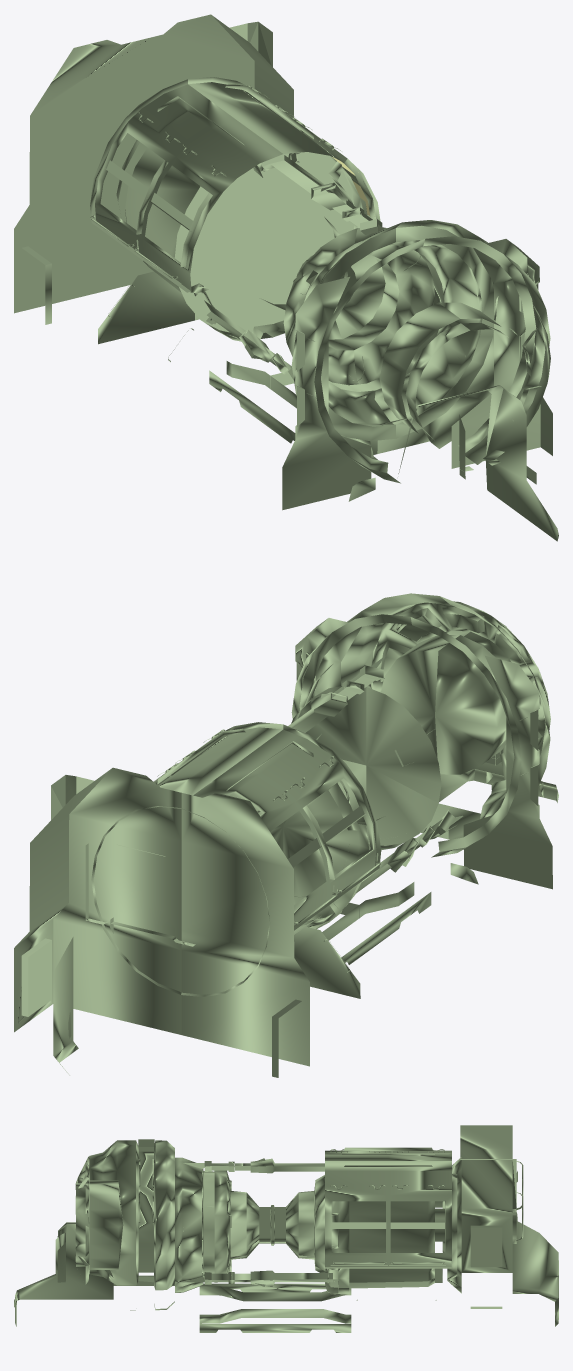
The model's file is uee_lawless_prop_generator_large.glb.
The picture shows the model from 3 angles, top to bottom: view 1: azimuth 30°, elevation 25°; view 2: azimuth 150°, elevation 25°; view 3: azimuth 270°, elevation 25°; orthographic projection. The views are drawn at different scales.
Size of the model in its own units: 2.87 by 2.66 by 7.88.
